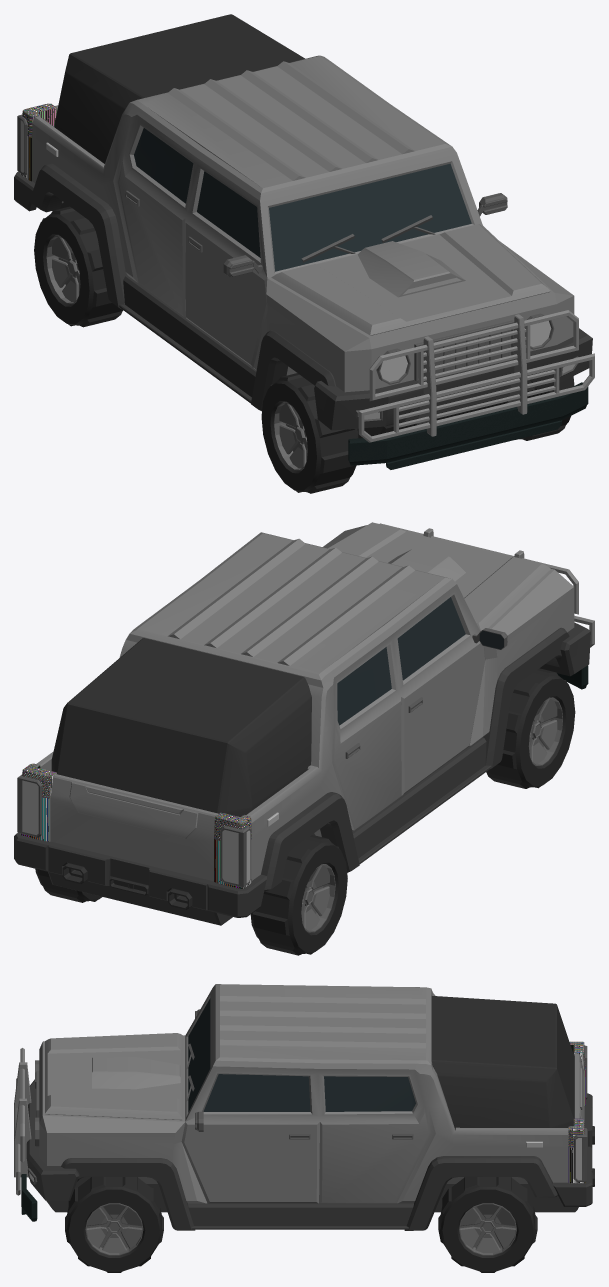
Rendered from car_05.glb.
3 renders of one model, top to bottom at view 1: azimuth 30°, elevation 25°; view 2: azimuth 150°, elevation 25°; view 3: azimuth 270°, elevation 25°, orthographic. The views are drawn at different scales.
Visible parts, largest first — view 1: car_05; view 2: car_05; view 3: car_05.
Boxes of the visible parts, x1,y1,x2,y2 form: car_05: [14, 14, 594, 493]; car_05: [14, 522, 594, 955]; car_05: [14, 984, 594, 1272].
Bounding box in the file's own units: 2.38 × 2.03 × 5.21.
Materials: 1 (1 with a texture image).
